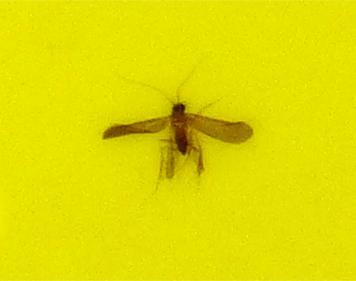Trichoptera: (100, 100, 256, 181)
